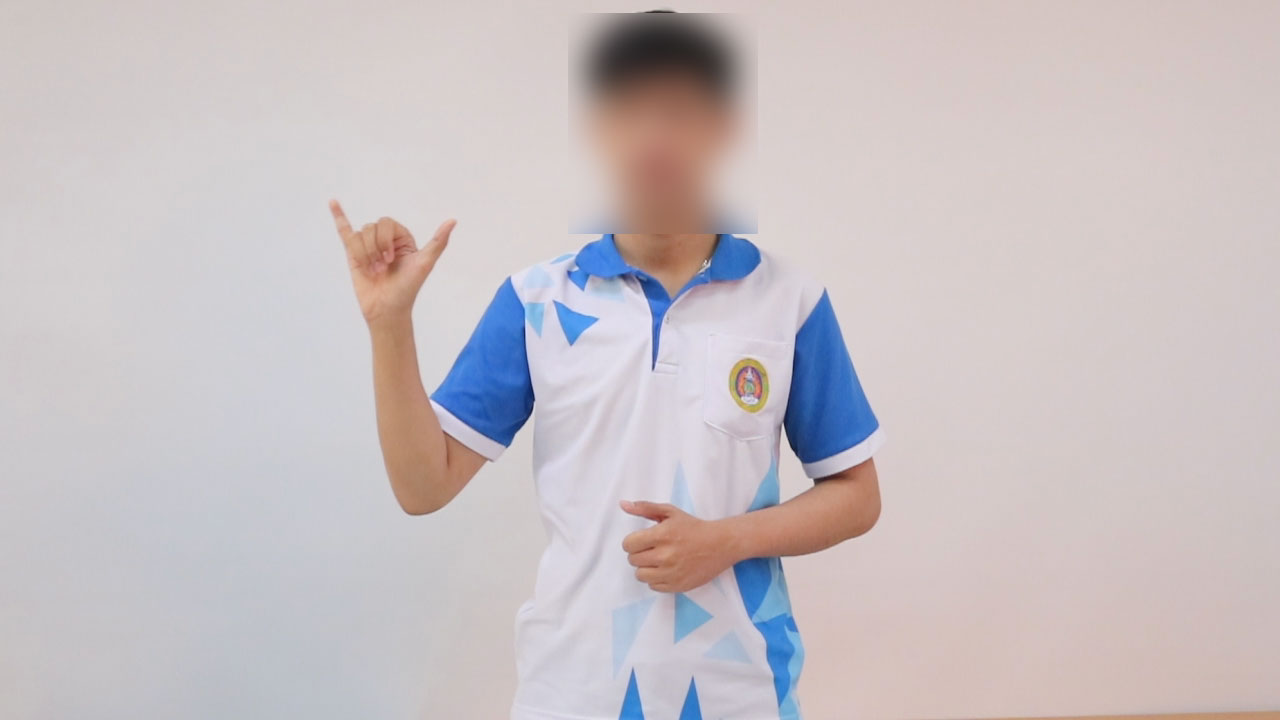yor: (316, 190, 462, 320)
